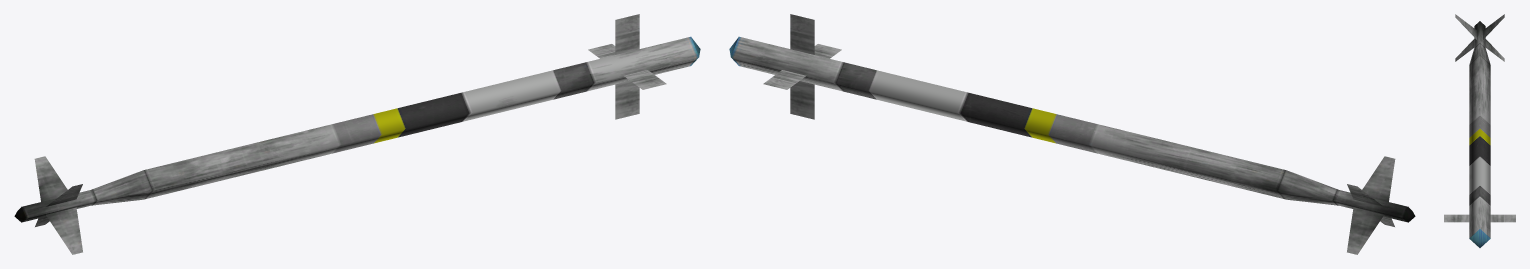
File: projectile_stinger_missile_LOD1.obj
The picture shows the model from 3 angles, left to right: view 1: azimuth 30°, elevation 25°; view 2: azimuth 150°, elevation 25°; view 3: azimuth 270°, elevation 25°; orthographic projection. The views are drawn at different scales.
Parts seen in each view (by area): view 1: mtl_weapon_stinger_missle; view 2: mtl_weapon_stinger_missle; view 3: mtl_weapon_stinger_missle.
Part boxes in pixels (x1,y1,x2,y2): mtl_weapon_stinger_missle: (14, 14, 700, 254); mtl_weapon_stinger_missle: (729, 14, 1415, 254); mtl_weapon_stinger_missle: (1444, 14, 1515, 247).
Bounding box in the file's own units: 141 × 19.65 × 19.65.
